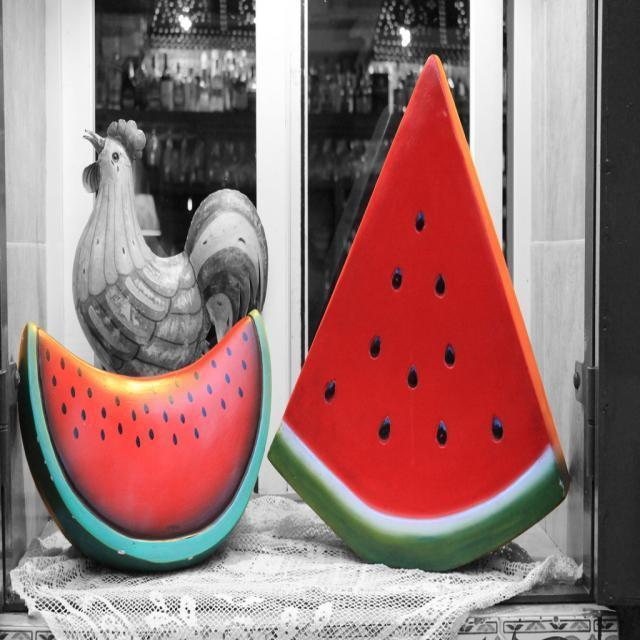Watermelon: (268, 51, 572, 572), (16, 306, 272, 570)
